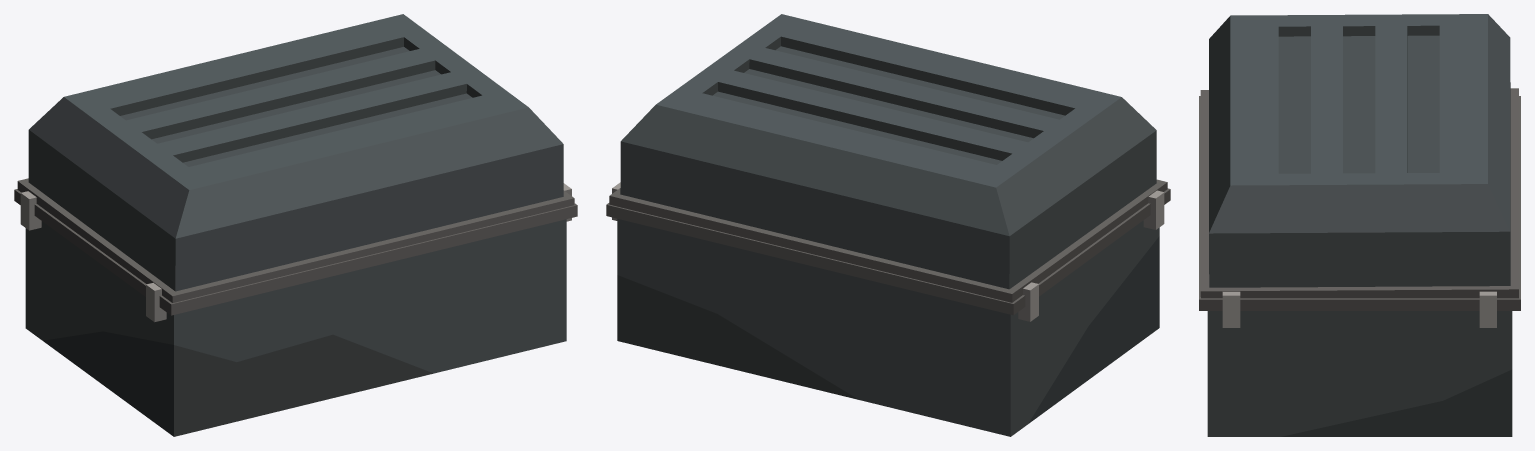
Rendered from AI_Prop_Lockbox.fbx.
The picture shows the model from 3 angles, left to right: view 1: azimuth 30°, elevation 25°; view 2: azimuth 150°, elevation 25°; view 3: azimuth 270°, elevation 25°; orthographic projection. The views are drawn at different scales.
Parts seen in each view (by area): view 1: AI_Prop_Lockbox; view 2: AI_Prop_Lockbox; view 3: AI_Prop_Lockbox.
Boxes of the visible parts, x1=… form: AI_Prop_Lockbox: x1=14, y1=14, x2=577, y2=436; AI_Prop_Lockbox: x1=606, y1=14, x2=1170, y2=436; AI_Prop_Lockbox: x1=1199, y1=14, x2=1520, y2=436.
Size of the model in its own units: 0.7688 by 0.4112 by 0.5004.
